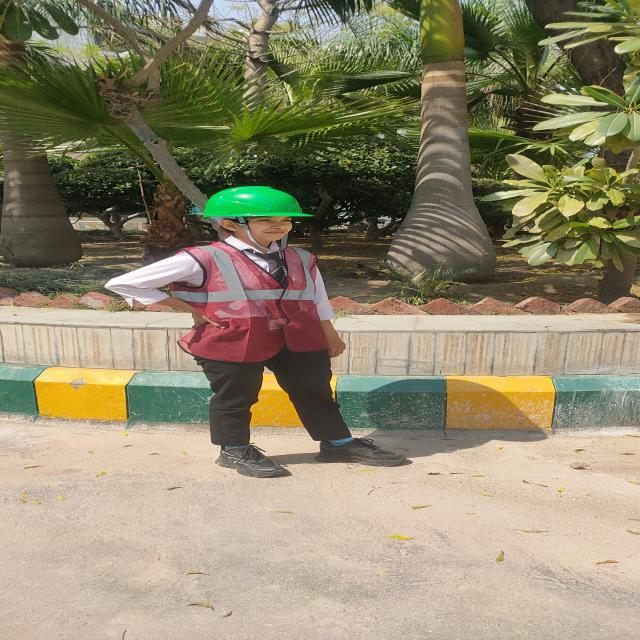safe: (168, 186, 332, 476)
